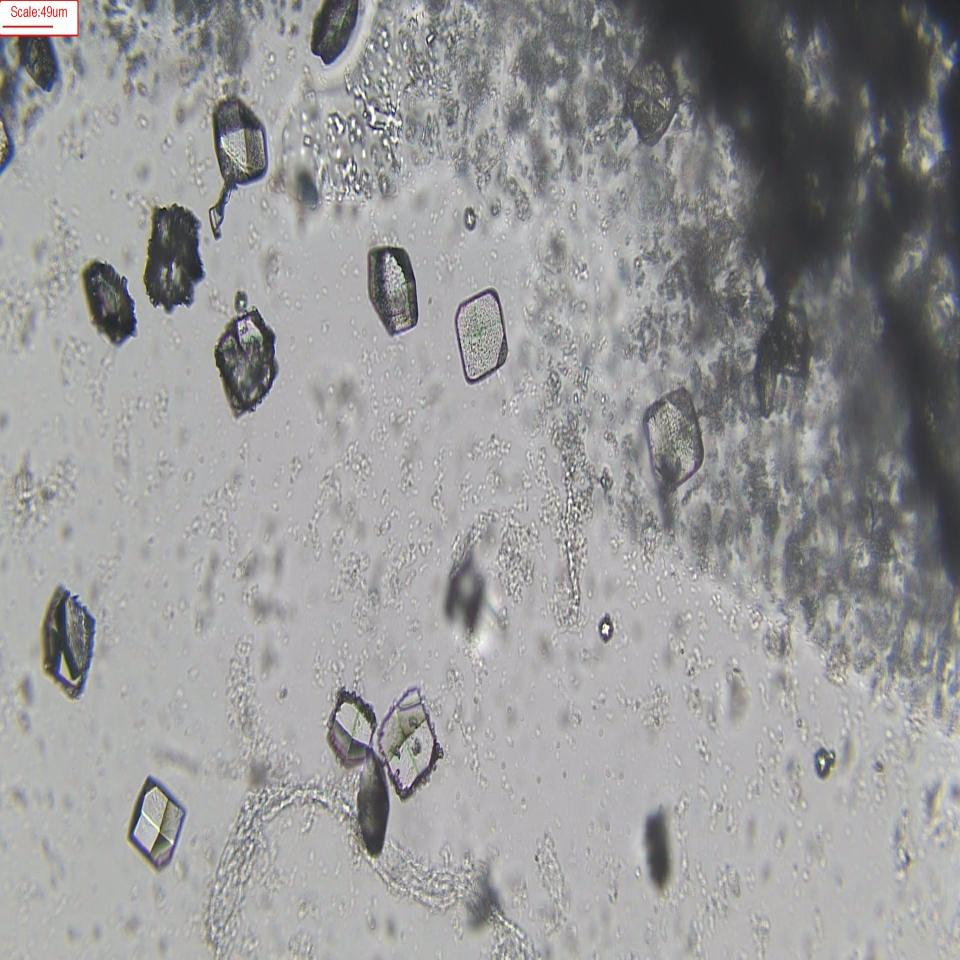crystal: (379, 686, 446, 790), (76, 258, 142, 360), (644, 386, 704, 490), (211, 85, 271, 188), (149, 201, 203, 313), (216, 311, 274, 412), (42, 582, 95, 691), (366, 243, 420, 347), (452, 286, 510, 382), (127, 774, 186, 868), (305, 0, 367, 79), (322, 690, 380, 762), (358, 751, 396, 856)
